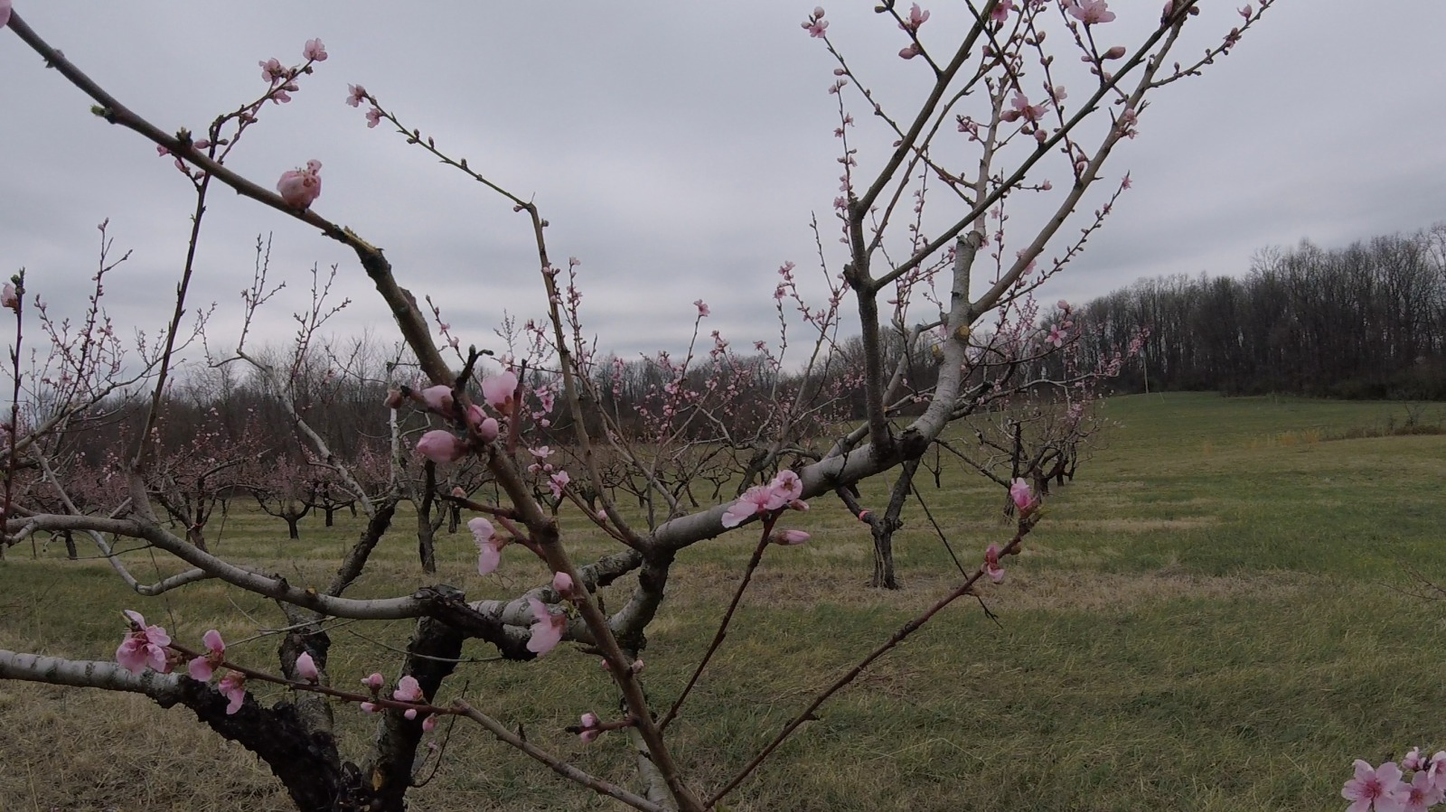flower: (1342, 747, 1446, 812), (722, 469, 810, 528), (117, 610, 172, 676), (473, 367, 521, 437), (468, 518, 507, 575), (277, 160, 323, 207), (525, 599, 562, 657), (1057, 0, 1116, 25), (416, 431, 458, 463), (1011, 90, 1050, 124), (218, 671, 246, 714), (984, 541, 1011, 583), (806, 13, 847, 39), (1010, 478, 1038, 509), (293, 651, 320, 679), (394, 676, 423, 701), (902, 3, 930, 28), (259, 58, 287, 83), (547, 471, 570, 500), (202, 630, 226, 657), (189, 656, 213, 683), (423, 386, 455, 406), (303, 38, 328, 63), (989, 0, 1015, 24), (346, 84, 370, 107), (1045, 325, 1068, 348), (1, 283, 19, 312), (778, 530, 812, 545), (271, 89, 301, 105), (405, 703, 433, 720), (0, 0, 15, 29), (553, 572, 574, 591), (1063, 14, 1080, 37), (423, 714, 442, 732), (366, 107, 382, 128), (1103, 47, 1126, 61), (1237, 5, 1253, 24), (362, 673, 384, 686), (16, 14, 26, 24), (303, 679, 311, 686), (14, 31, 21, 38)
